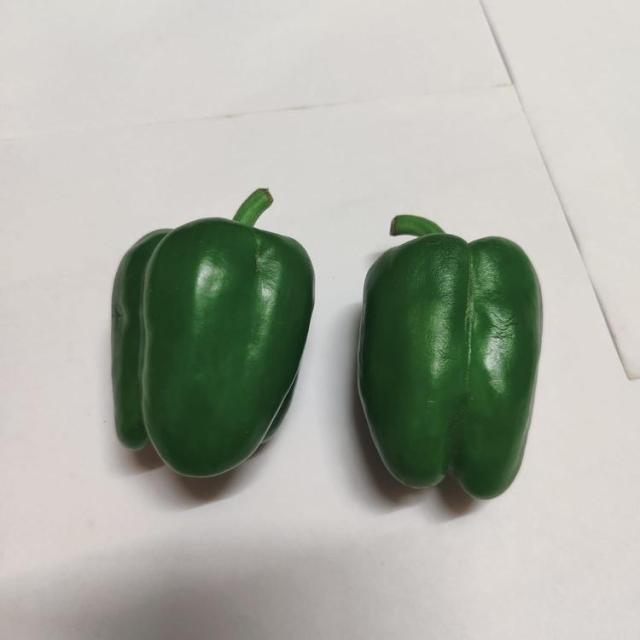Organik: (73, 162, 353, 496), (344, 179, 558, 505)
